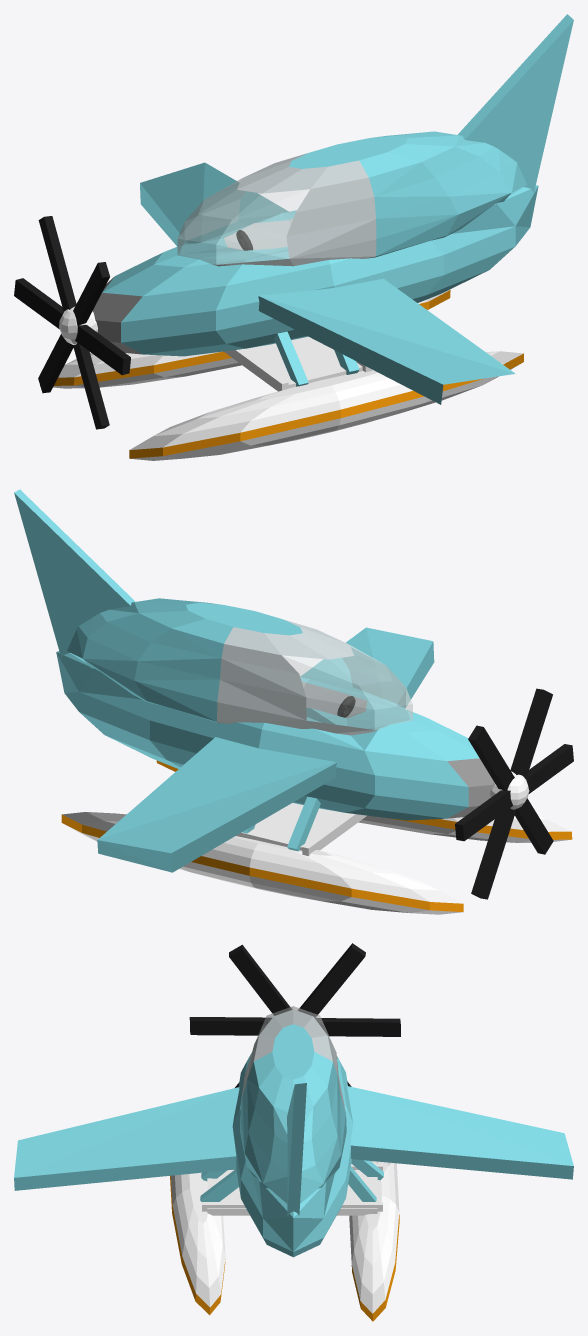
Rendered from scene_poV3VY2NNt.glb.
3 renders of one model, top to bottom at view 1: azimuth 30°, elevation 25°; view 2: azimuth 150°, elevation 25°; view 3: azimuth 270°, elevation 25°, orthographic. The views are drawn at different scales.
Parts seen in each view (by area): view 1: Node; view 2: Node; view 3: Node.
Boxes of the visible parts, x1,y1,x2,y2 form: Node: (14,14,573,460); Node: (14,489,573,914); Node: (14,943,573,1321).
Bounding box in the file's own units: 1.57 × 0.8894 × 1.54.
